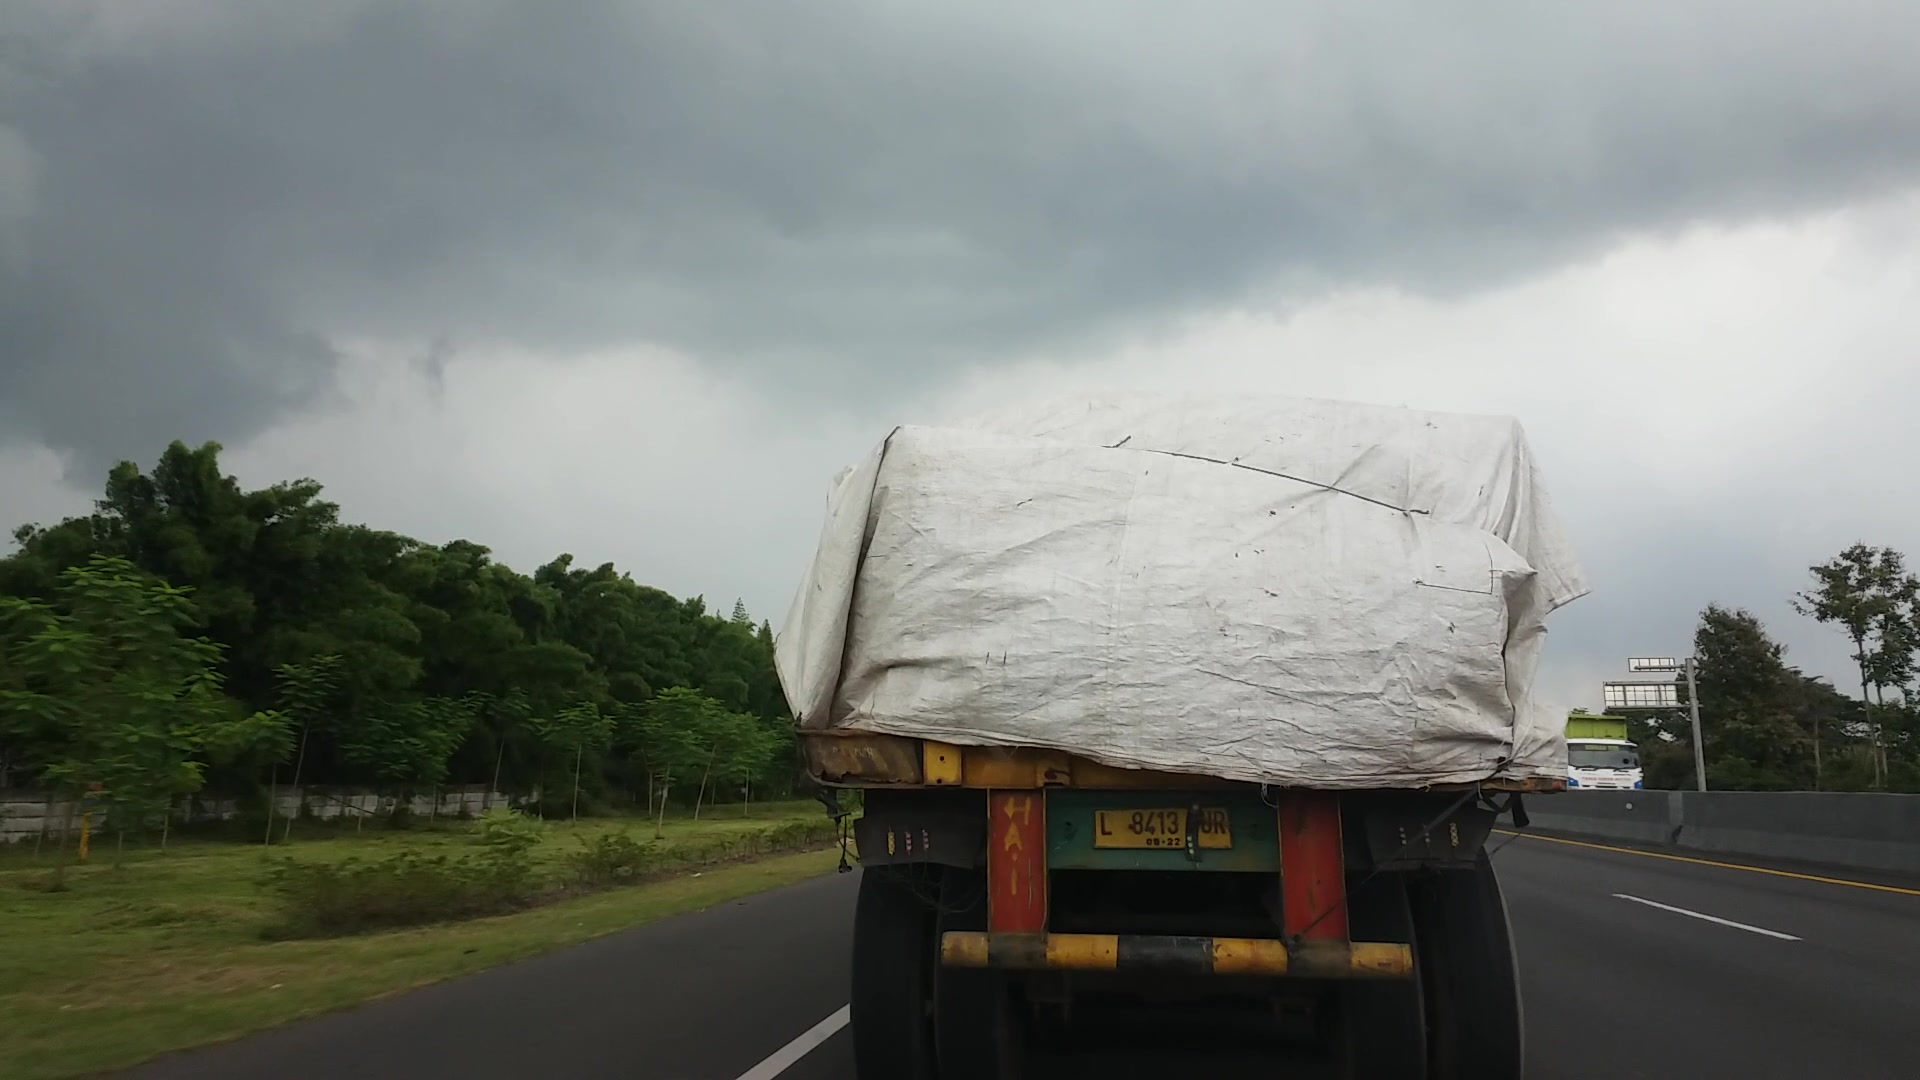plate_positive: (1093, 806, 1232, 849)
